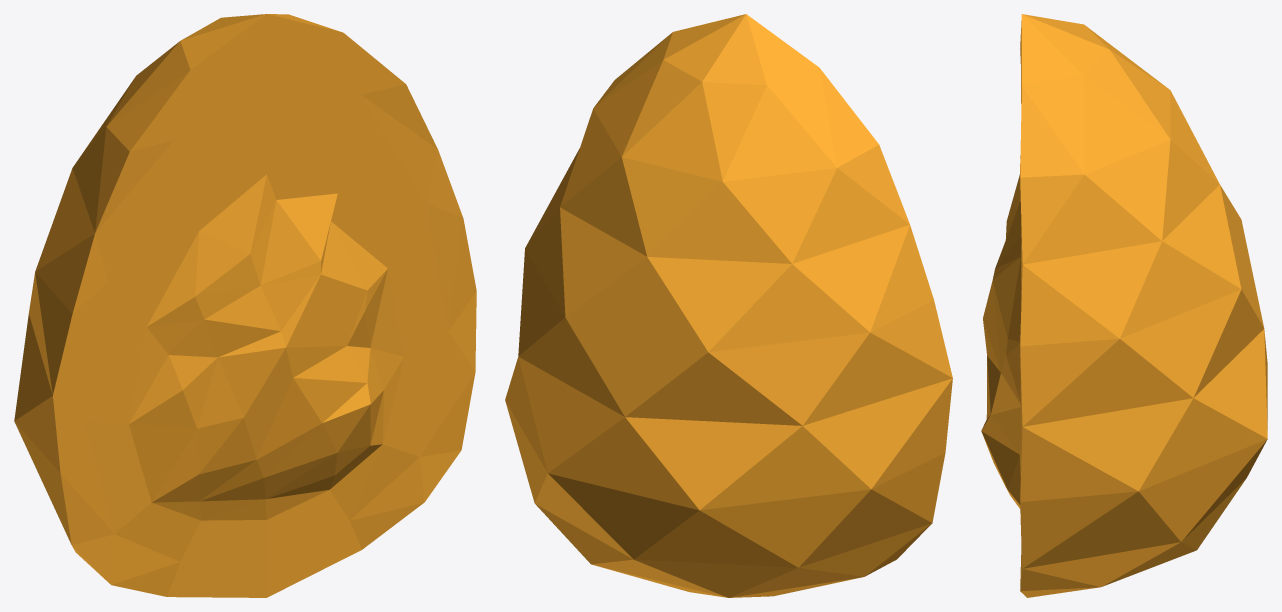
Rendered from SM_Stuffed_Dragon_Egg_B.fbx.
The picture shows the model from 3 angles, left to right: view 1: azimuth 30°, elevation 25°; view 2: azimuth 150°, elevation 25°; view 3: azimuth 270°, elevation 25°; orthographic projection. The views are drawn at different scales.
Parts seen in each view (by area): view 1: stuffed-dragon-egg-b; view 2: stuffed-dragon-egg-b; view 3: stuffed-dragon-egg-b.
Boxes of the visible parts, x1,y1,x2,y2 form: stuffed-dragon-egg-b: (14, 14, 476, 597); stuffed-dragon-egg-b: (505, 14, 952, 597); stuffed-dragon-egg-b: (981, 14, 1267, 597).
Bounding box in the file's own units: 0.232 × 0.3046 × 0.1413.
